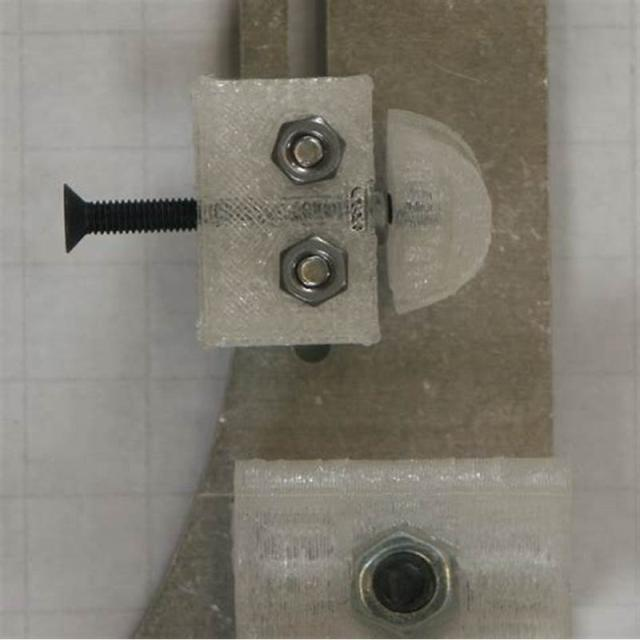bolt nut: (347, 520, 456, 633), (270, 111, 346, 186), (276, 233, 352, 307)
